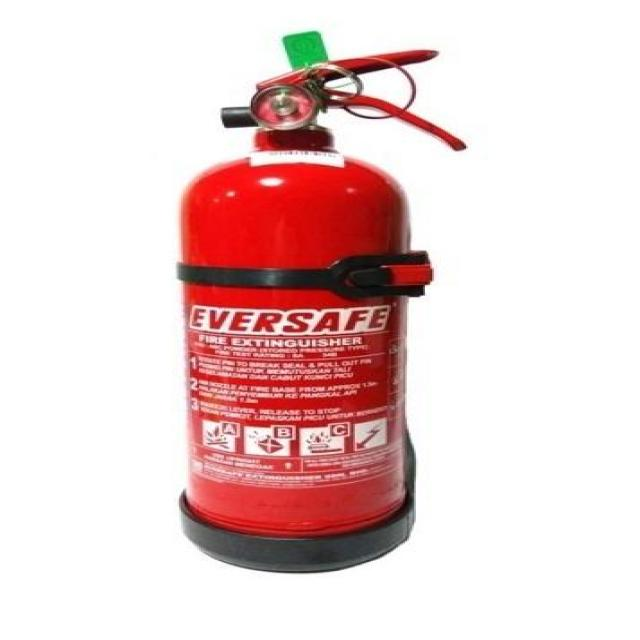fire_extinguisher: (166, 28, 470, 576)
